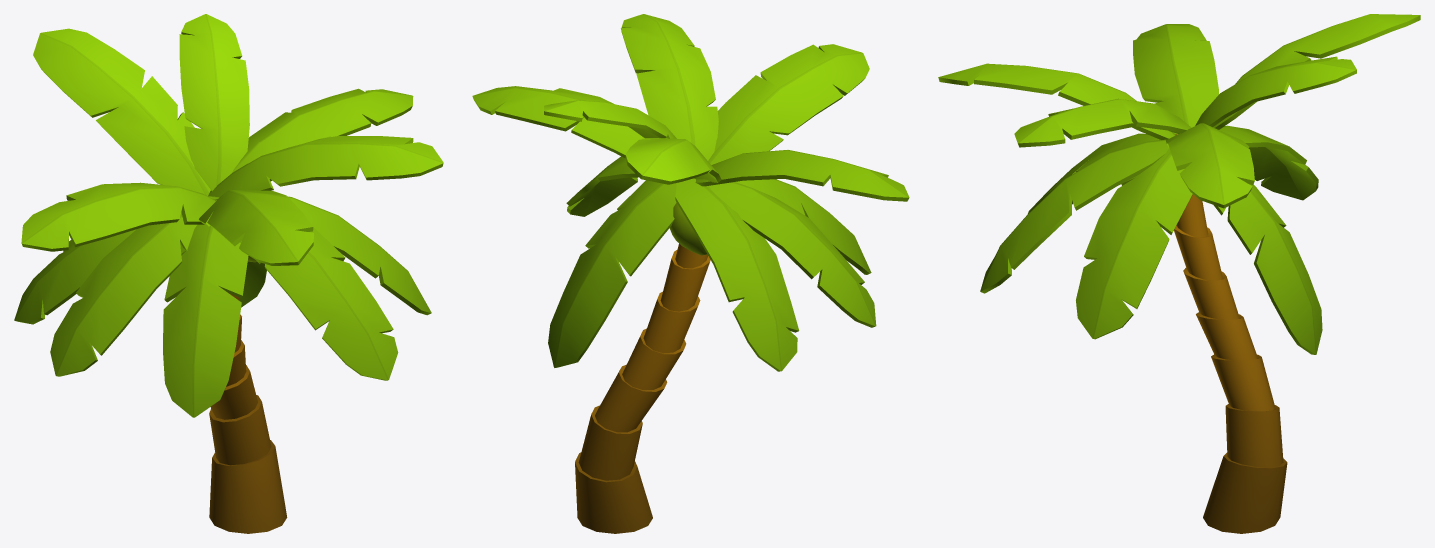
File: Farm_Crop_Coconut_Tree_02.fbx
3 views of the same model, side by side, from view 1: azimuth 30°, elevation 25°; view 2: azimuth 150°, elevation 25°; view 3: azimuth 270°, elevation 25° (orthographic). The views are drawn at different scales.
Visible parts, largest first — view 1: Farm_Crop_Coconut_Tree_02; view 2: Farm_Crop_Coconut_Tree_02; view 3: Farm_Crop_Coconut_Tree_02.
Part boxes in pixels (x1=…): Farm_Crop_Coconut_Tree_02: x1=14, y1=14, x2=443, y2=533; Farm_Crop_Coconut_Tree_02: x1=472, y1=14, x2=909, y2=533; Farm_Crop_Coconut_Tree_02: x1=938, y1=14, x2=1420, y2=533.
Size of the model in its own units: 404 by 420 by 404.
